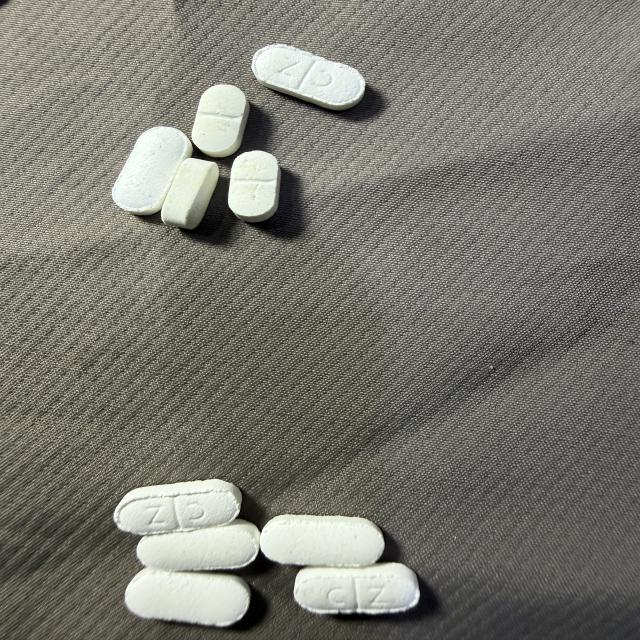pill: (252, 44, 365, 110), (125, 568, 250, 626), (112, 127, 192, 215), (114, 480, 241, 534), (294, 563, 419, 614), (261, 515, 384, 566), (137, 520, 259, 571), (192, 85, 249, 157), (162, 158, 218, 229), (229, 151, 280, 222)
